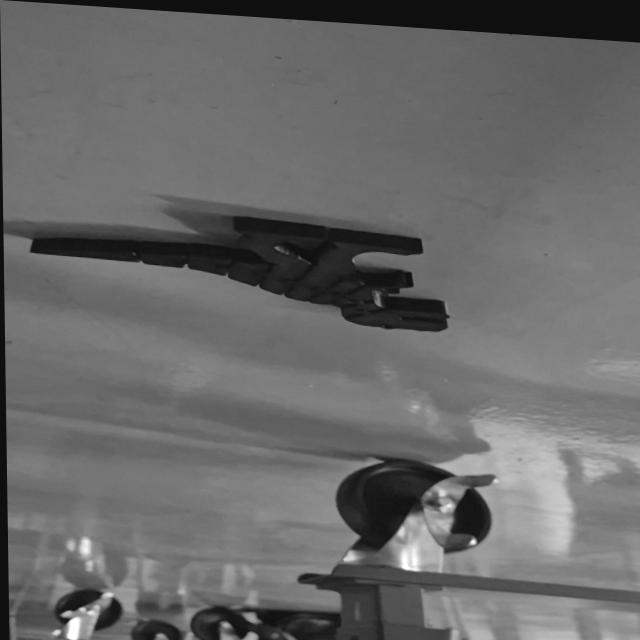dino: (27, 202, 453, 335)
